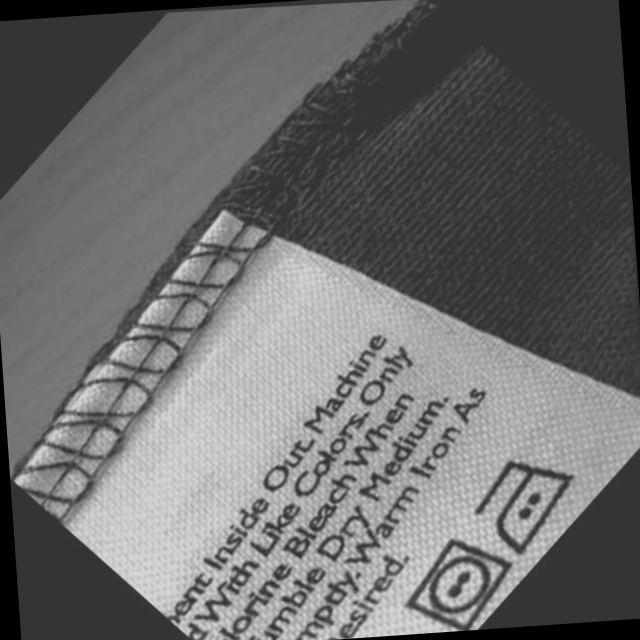iron_medium: (473, 454, 585, 555)
tumble_dry_medium: (404, 536, 519, 633)
